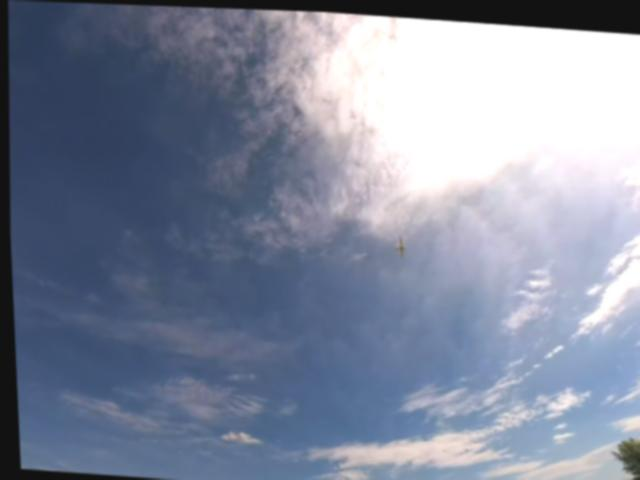plane: (392, 234, 406, 253)
